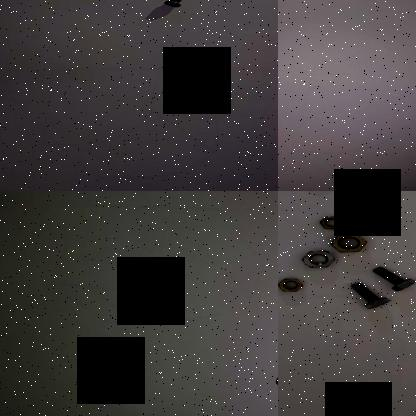Bolts: (338, 280, 394, 310), (362, 264, 416, 293), (163, 0, 204, 7)
NUTS: (332, 232, 369, 256), (304, 249, 336, 270), (357, 191, 397, 205), (316, 212, 349, 228), (278, 273, 304, 291)
